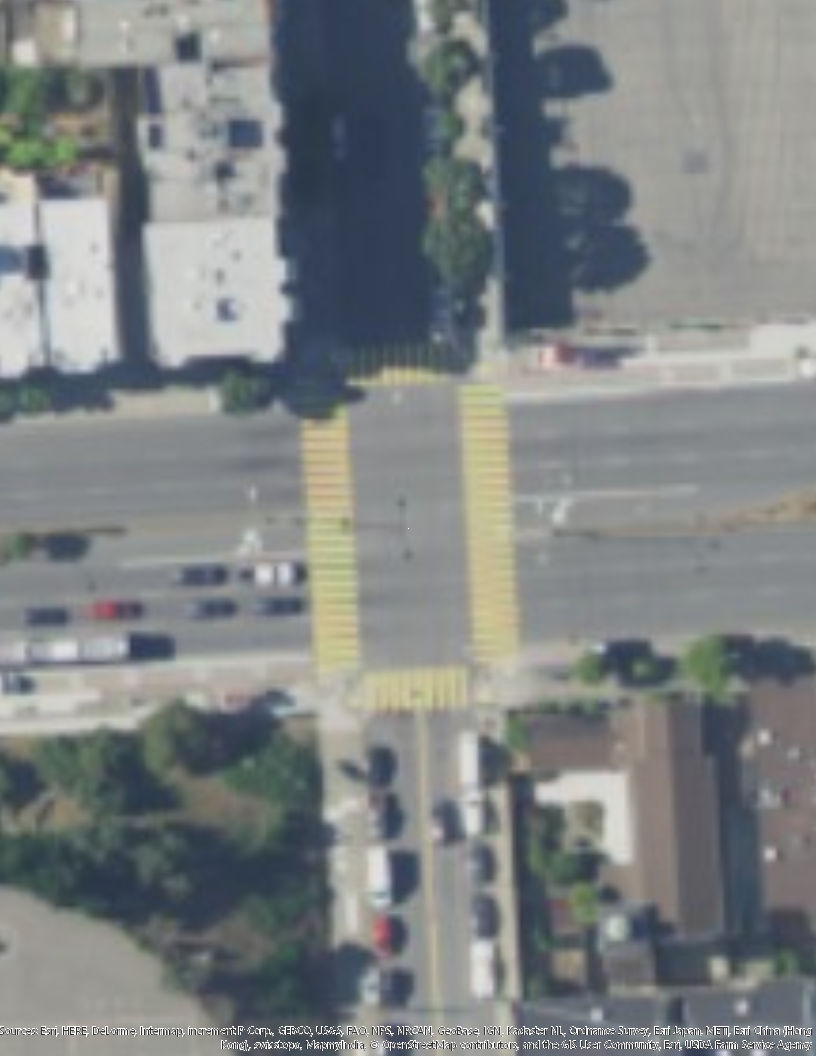zebracross: (292, 398, 365, 674), (455, 390, 521, 665), (331, 339, 458, 387), (361, 662, 472, 713)
